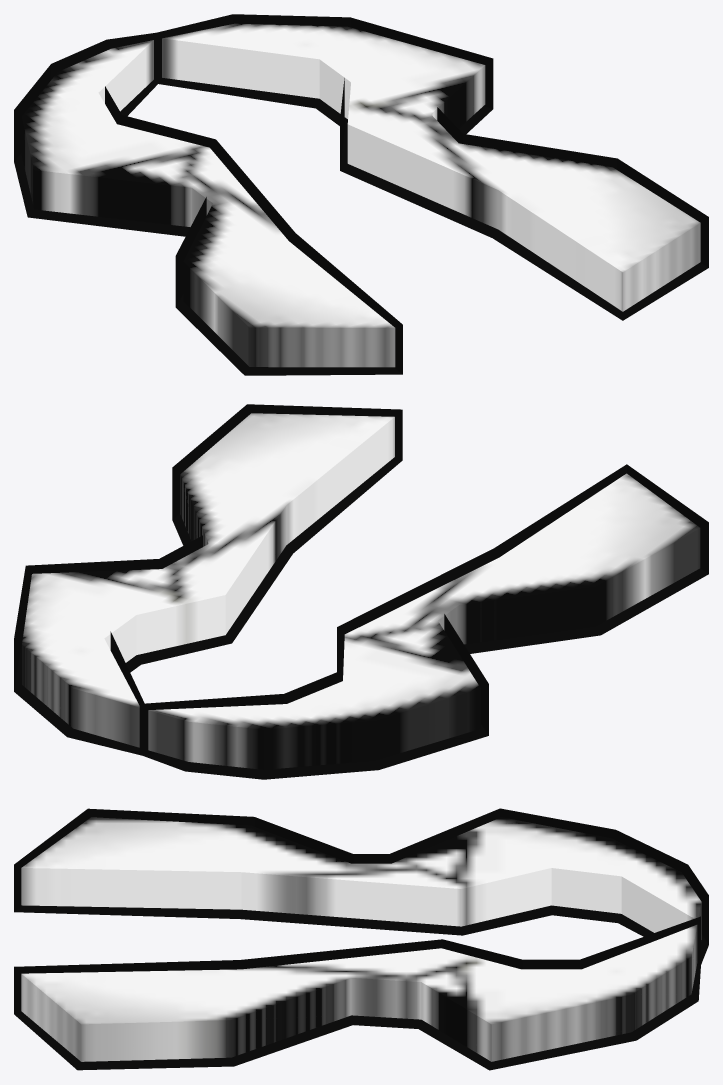
Rendered from Item_Apparel_Duster_Things_Pawn_Humanlike_Apparel_Duster_Duster_Female.glb.
3 renders of one model, top to bottom at view 1: azimuth 30°, elevation 25°; view 2: azimuth 150°, elevation 25°; view 3: azimuth 270°, elevation 25°, orthographic. The views are drawn at different scales.
Visible parts, largest first — view 1: Body, Outline; view 2: Body, Outline; view 3: Body, Outline.
Part boxes in pixels (x1,y1,x2,y2): Body: (21, 23, 700, 367); Outline: (14, 14, 708, 375); Body: (22, 413, 700, 769); Outline: (14, 404, 708, 779); Body: (21, 817, 701, 1061); Outline: (14, 808, 708, 1070).
Size of the model in its own units: 0.3951 by 0.045 by 0.5427.
2 materials, 1 textured.
